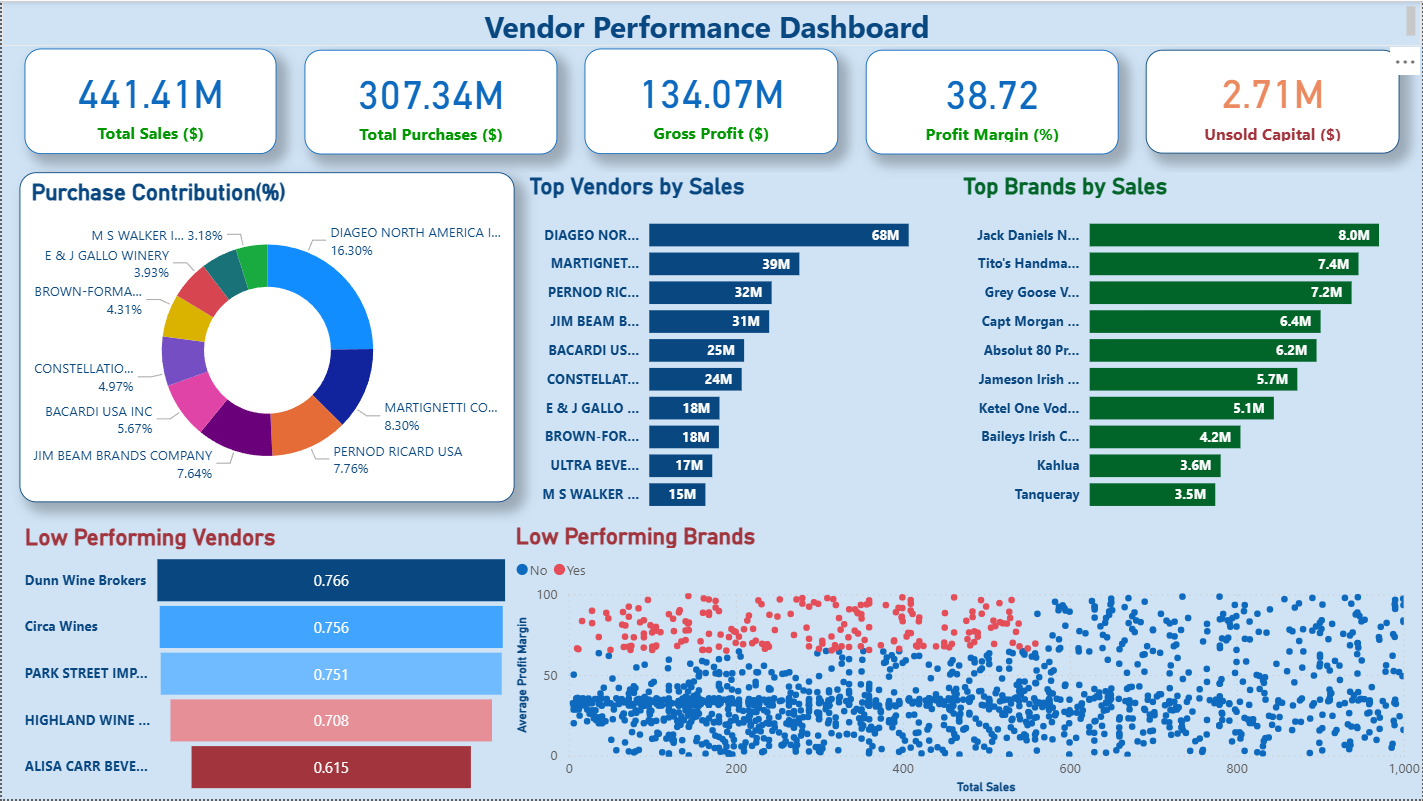

This screenshot's page, from the dashboard's own definition file:
{"tool":"powerbi","page":{"name":"Page 1","canvas":[1280,720],"ordinal":0},"visuals":[{"type":"card","fields":{"Values":["Sum(Vendor Sales Summary.TotalSalesDollars)"]},"box":[20.8,42.9,227.3,94.8],"z":0},{"type":"card","fields":{"Values":["Sum(Vendor Sales Summary.TotalPurchaseDollars)"]},"box":[272.7,43.7,228,94],"z":1000},{"type":"card","fields":{"Values":["Sum(Vendor Sales Summary.GrossProfit)"]},"box":[525.3,42.9,228.6,94.8],"z":2000},{"type":"card","fields":{"Values":["Sum(Vendor Sales Summary.UnsoldCapital)"]},"box":[1031.2,44.2,228.6,93.5],"z":3000},{"type":"barChart","title":"Top Vendors by Sales","fields":{"Y":["Sum(Vendor Sales Summary.TotalSalesDollars)"],"Category":["Vendor Sales Summary.VendorName"]},"box":[475.3,154.5,390.9,316.9],"z":4000},{"type":"card","fields":{"Values":["Avg(Vendor Sales Summary.ProfitMargin)"]},"box":[778.5,43.7,228,94],"z":5000},{"type":"textbox","box":[0,0,1279.8,40.5],"z":6000},{"type":"donutChart","title":"Purchase Contribution(%)","fields":{"Category":["Purchase_Contribution.VendorName"],"Y":["Sum(Purchase_Contribution.PurchaseContribution(%))"]},"box":[15.6,154.5,446.8,297.4],"z":7000},{"type":"funnel","title":"Low Performing Vendors","fields":{"Category":["LowPerformaceVendor.VendorName"],"Y":["Avg(LowPerformaceVendor.Average Stock Turnover)"]},"box":[15.6,471.4,448.1,248.1],"z":8000},{"type":"barChart","title":"Top Brands by Sales","fields":{"Y":["Sum(Vendor Sales Summary.TotalSalesDollars)"],"Category":["Vendor Sales Summary.Description"]},"box":[866.2,154.5,413,316.9],"z":9000},{"type":"scatterChart","title":"Low Performing Brands","fields":{"X":["Sum(BrandPerformance.TotalSales)"],"Y":["Avg(BrandPerformance.AvgProfitMargin)"],"Category":["BrandPerformance.Description"],"Series":["BrandPerformance.TargetBrands"]},"box":[463.6,470.1,815.6,249.4],"z":10000}]}

Visuals, with their boxes in screenshot pixels (x1, y1, x2, y2), scaled from the page's 1280x720 canvas onto the 1423x801 screenshot:
card - Sum(Vendor Sales Summary.TotalSalesDollars): (left=23, top=48, right=276, bottom=153)
card - Sum(Vendor Sales Summary.TotalPurchaseDollars): (left=303, top=49, right=557, bottom=153)
card - Sum(Vendor Sales Summary.GrossProfit): (left=584, top=48, right=838, bottom=153)
card - Sum(Vendor Sales Summary.UnsoldCapital): (left=1146, top=49, right=1401, bottom=153)
"Top Vendors by Sales" barChart: (left=528, top=172, right=963, bottom=524)
card - Avg(Vendor Sales Summary.ProfitMargin): (left=865, top=49, right=1119, bottom=153)
textbox: (left=0, top=0, right=1422, bottom=45)
"Purchase Contribution(%)" donutChart: (left=17, top=172, right=514, bottom=503)
"Low Performing Vendors" funnel: (left=17, top=524, right=516, bottom=800)
"Top Brands by Sales" barChart: (left=963, top=172, right=1422, bottom=524)
"Low Performing Brands" scatterChart: (left=515, top=523, right=1422, bottom=800)
